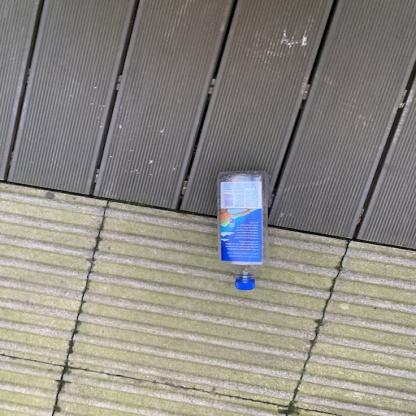trash: (214, 170, 268, 295)
